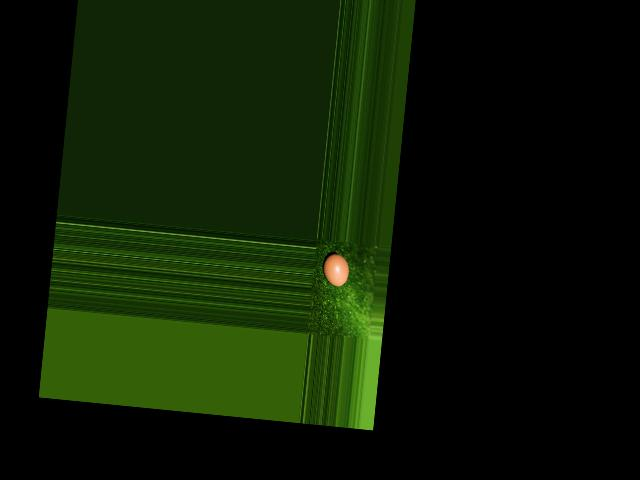egg: (320, 252, 349, 288)
